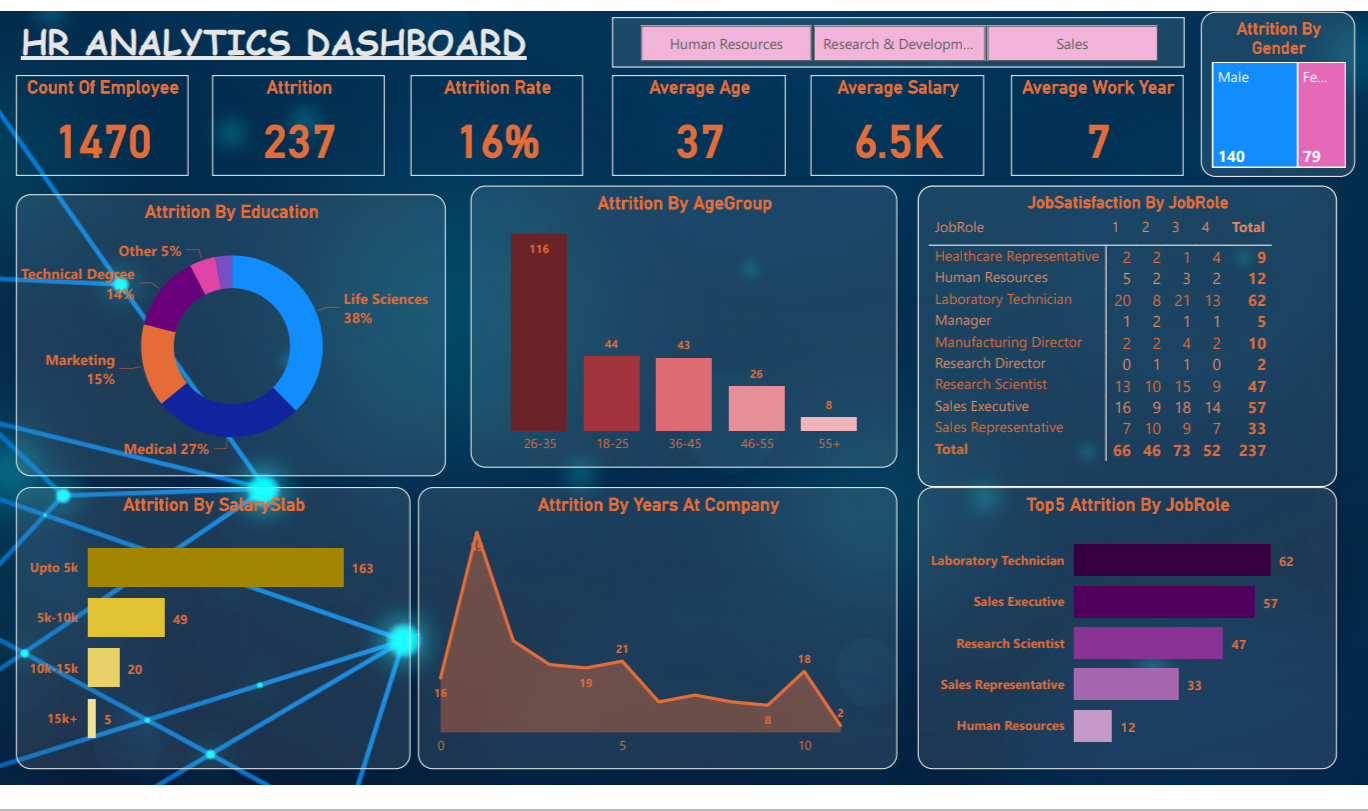

The page's visual inventory and layout, read from the dashboard file:
{"tool":"powerbi","page":{"name":"Page 1","canvas":[1280,720],"ordinal":0},"visuals":[{"type":"card","title":"Count Of Employee","fields":{"Values":["CountNonNull(HR_Analytics.EmpID)"]},"box":[18.9,59.4,161.5,93.4],"z":0},{"type":"card","title":"Attrition","fields":{"Values":["Sum(HR_Analytics.AttritionCount)"]},"box":[201.8,59.4,161.5,93.4],"z":1000},{"type":"card","title":"Attrition Rate","fields":{"Values":["HR_Analytics.AttritionRate"]},"box":[386.6,59.4,161.5,93.4],"z":2000},{"type":"card","title":"Average Salary","fields":{"Values":["Avg(HR_Analytics.MonthlyIncome)"]},"box":[760.1,59.4,161.5,93.4],"z":3000},{"type":"card","title":"Average Age","fields":{"Values":["Avg(HR_Analytics.Age)"]},"box":[575.3,59.4,161.5,93.4],"z":4000},{"type":"card","title":"Average Work Year","fields":{"Values":["Avg(HR_Analytics.YearsAtCompany)"]},"box":[946.8,59.4,161.5,93.4],"z":5000},{"type":"donutChart","title":"Attrition By Education","fields":{"Category":["HR_Analytics.EducationField"],"Y":["Sum(HR_Analytics.AttritionCount)"]},"box":[19.3,170.2,400.2,263],"z":6000},{"type":"columnChart","title":"Attrition By AgeGroup","fields":{"Category":["HR_Analytics.AgeGroup"],"Y":["Sum(HR_Analytics.AttritionCount)"]},"box":[442.8,162.4,398.3,263],"z":7000},{"type":"pivotTable","title":"JobSatisfaction By JobRole","fields":{"Rows":["HR_Analytics.JobRole"],"Columns":["HR_Analytics.JobSatisfaction"],"Values":["Sum(HR_Analytics.AttritionCount)"]},"box":[859.9,162.1,391,281.3],"z":8000},{"type":"barChart","title":"Attrition By SalarySlab","fields":{"Category":["HR_Analytics.SalarySlab"],"Y":["Sum(HR_Analytics.AttritionCount)"]},"box":[19.3,442.8,367.4,263],"z":9000},{"type":"barChart","title":"Top5 Attrition By JobRole","fields":{"Y":["Sum(HR_Analytics.AttritionCount)"],"Category":["HR_Analytics.JobRole"]},"box":[859.9,443.4,391,262.3],"z":10000},{"type":"areaChart","title":"Attrition By Years At Company","fields":{"Category":["HR_Analytics.YearsAtCompany"],"Y":["Sum(HR_Analytics.AttritionCount)"]},"box":[394.4,442.8,446.6,263],"z":11000},{"type":"treemap","title":"Attrition By Gender","fields":{"Values":["Sum(HR_Analytics.AttritionCount)"],"Group":["HR_Analytics.Gender"]},"box":[1123.7,0,144.6,154.2],"z":12000},{"type":"slicer","title":"Department","fields":{"Values":["HR_Analytics.Department"]},"box":[575.4,4.8,534,47.7],"z":13000},{"type":"textbox","box":[19.1,0,683.4,216.2],"z":14000}]}

Visuals, with their boxes in screenshot pixels (x1, y1, x2, y2):
"Count Of Employee" card: l=10, t=72, r=186, b=174
"Attrition" card: l=210, t=72, r=386, b=174
"Attrition Rate" card: l=412, t=72, r=588, b=174
"Average Salary" card: l=820, t=72, r=996, b=174
"Average Age" card: l=618, t=72, r=794, b=174
"Average Work Year" card: l=1024, t=72, r=1200, b=174
"Attrition By Education" donutChart: l=10, t=193, r=448, b=480
"Attrition By AgeGroup" columnChart: l=473, t=185, r=908, b=472
"JobSatisfaction By JobRole" pivotTable: l=929, t=184, r=1356, b=492
"Attrition By SalarySlab" barChart: l=10, t=491, r=412, b=778
"Top5 Attrition By JobRole" barChart: l=929, t=492, r=1356, b=778
"Attrition By Years At Company" areaChart: l=420, t=491, r=908, b=778
"Attrition By Gender" treemap: l=1217, t=7, r=1367, b=176
"Department" slicer: l=618, t=12, r=1202, b=64
textbox: l=10, t=7, r=757, b=243
